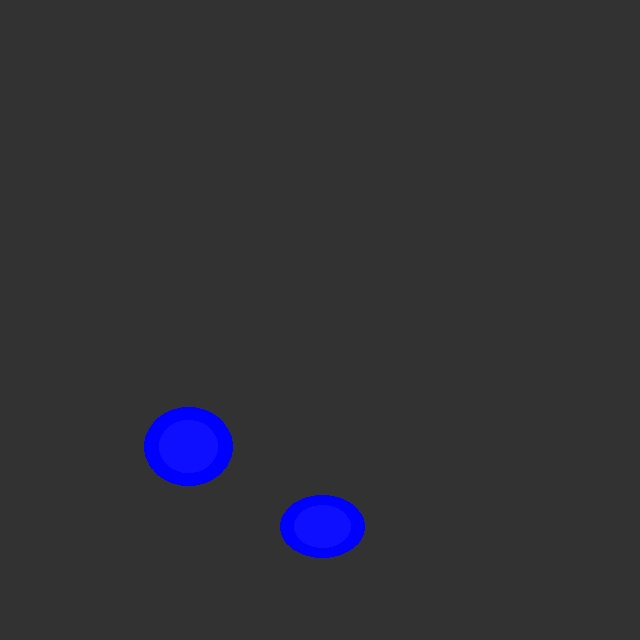fish: (143, 407, 233, 485), (280, 495, 364, 557)
